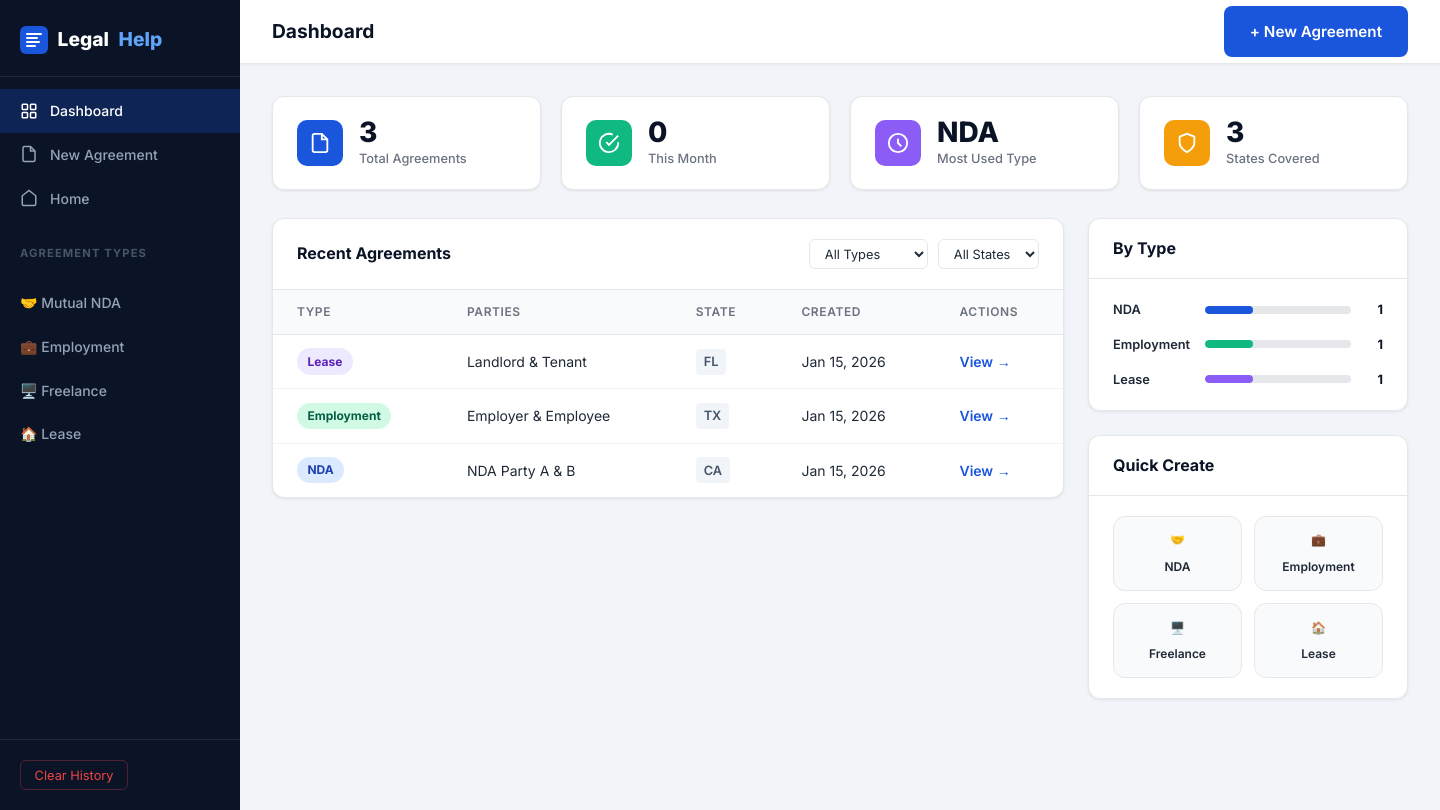
Test: DashboardClient — type filter › shows empty state when filter matches nothing
Select "Freelance" in the 1st dropdown at (868, 254), box [809,239,928,269]
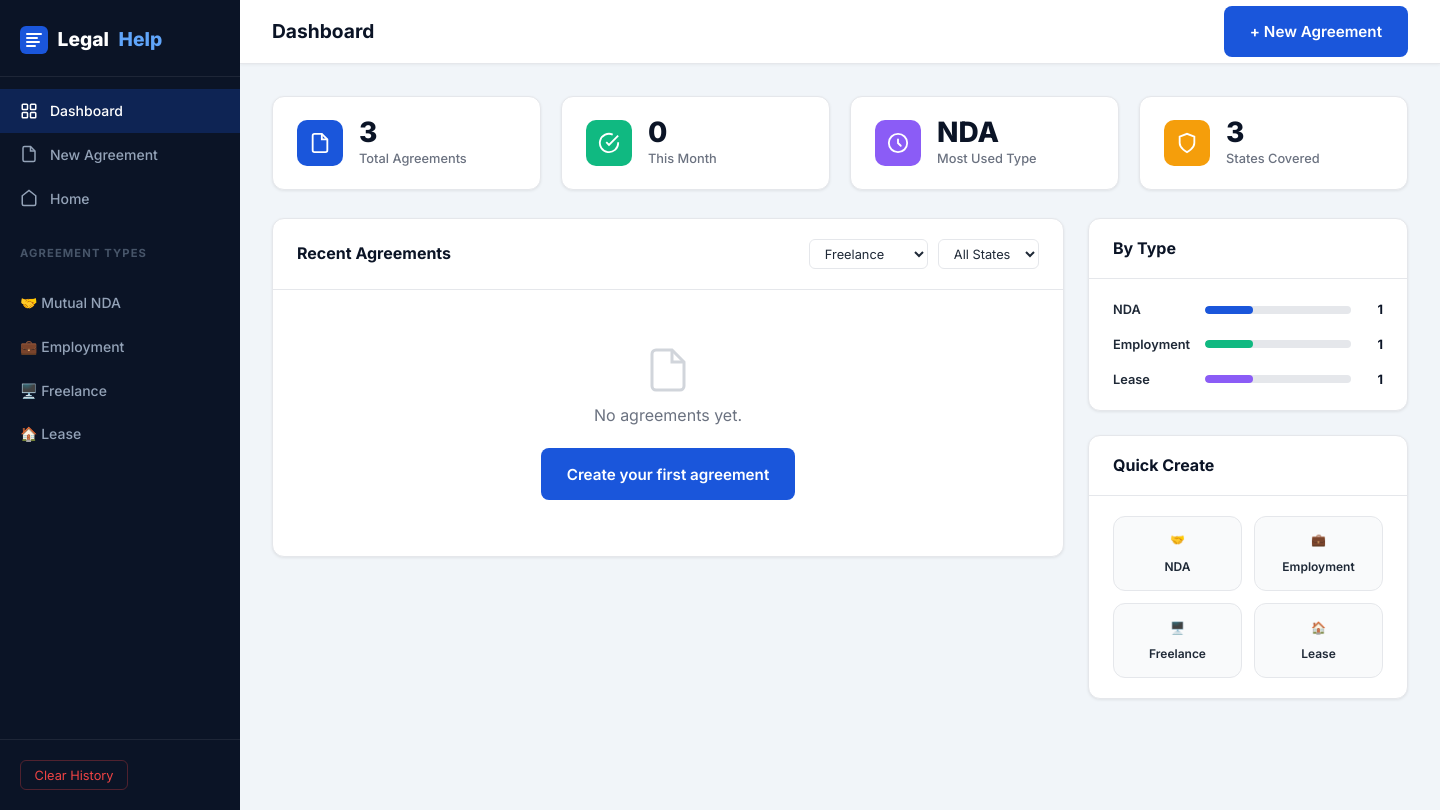
Expected: the text "No agreements yet." is shown, [594,402,742,428]
